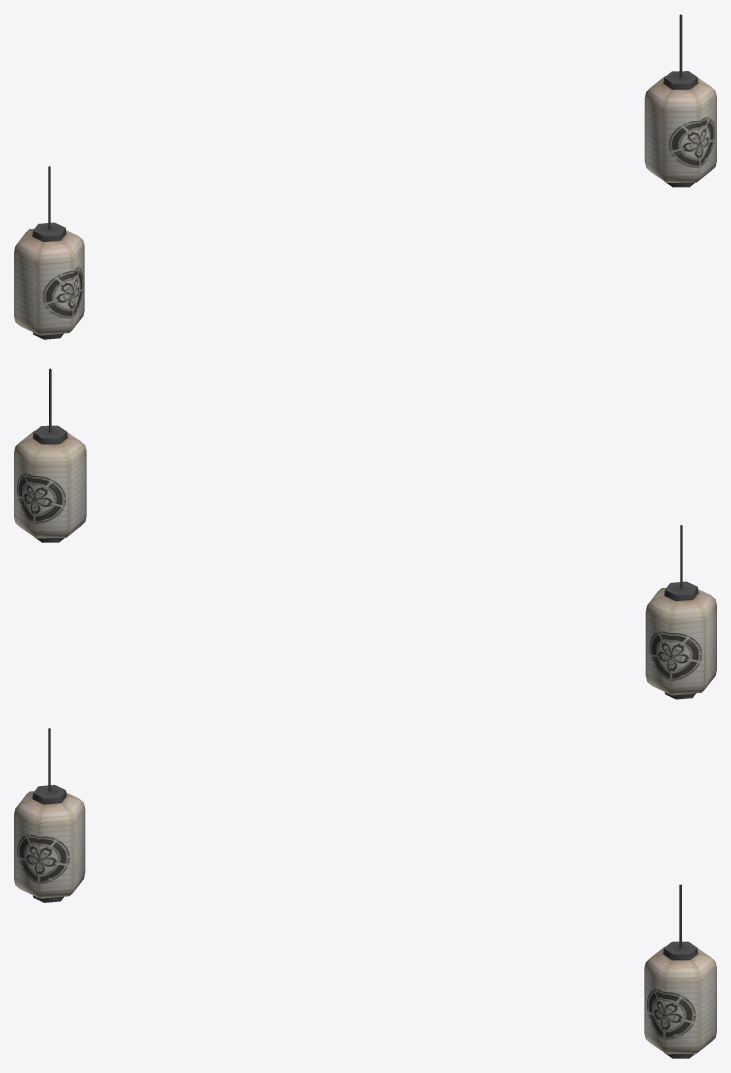
Rendered from Homeworld_Exterior_Dq_Build_House_11_Lod0.fbx.
The picture shows the model from 3 angles, top to bottom: view 1: azimuth 30°, elevation 25°; view 2: azimuth 150°, elevation 25°; view 3: azimuth 330°, elevation 25°; orthographic projection.
Visible parts, largest first — view 1: Area_Dq_Light_MS_Lamp_05_Vo (×2); view 2: Area_Dq_Light_MS_Lamp_05_Vo (×2); view 3: Area_Dq_Light_MS_Lamp_05_Vo (×2).
Part boxes in pixels (x1,y1,x2,y2): Area_Dq_Light_MS_Lamp_05_Vo (×2): (14,14,716,339); Area_Dq_Light_MS_Lamp_05_Vo (×2): (14,368,716,699); Area_Dq_Light_MS_Lamp_05_Vo (×2): (14,728,716,1058).
Size of the model in its own units: 5.82 by 1.35 by 0.559.
